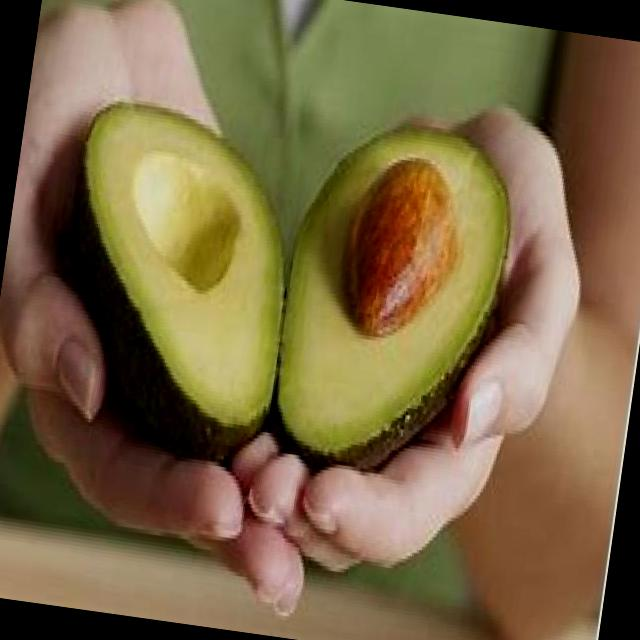avocado: (259, 108, 527, 496), (38, 88, 313, 464)
